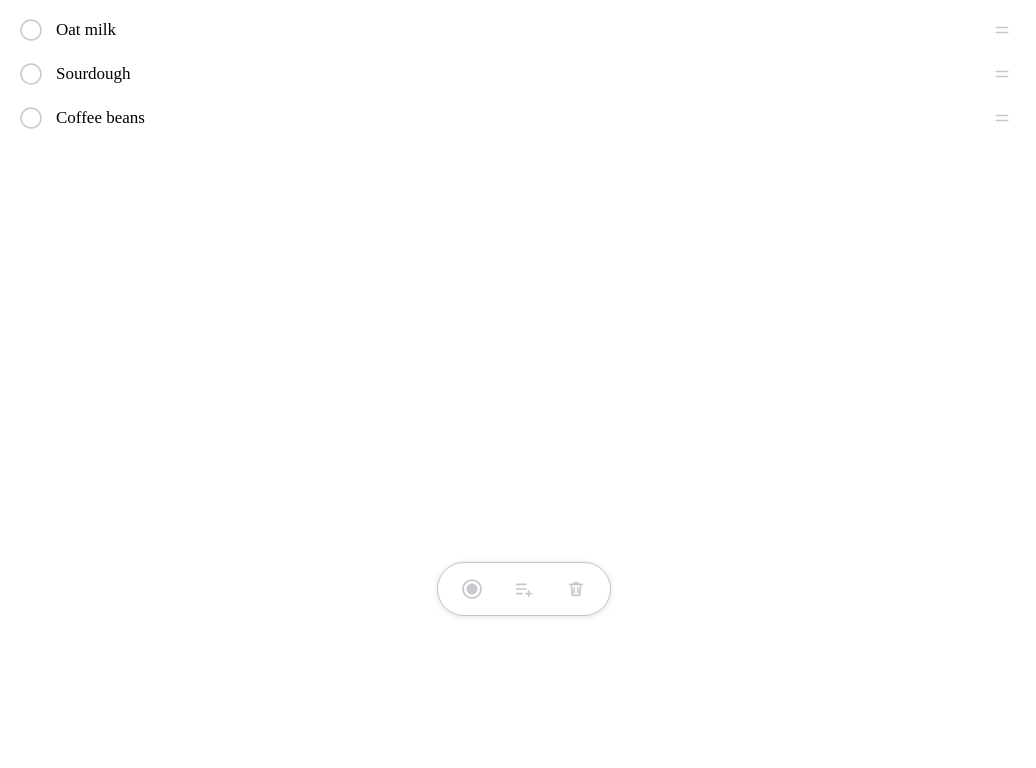
TaskList selection mode (Unit) › disarms a pending delete when the selection changes
The image size is (1036, 768).
Click the button "Oat milk".
click(86, 30)  # box left=56, top=8, right=940, bottom=52
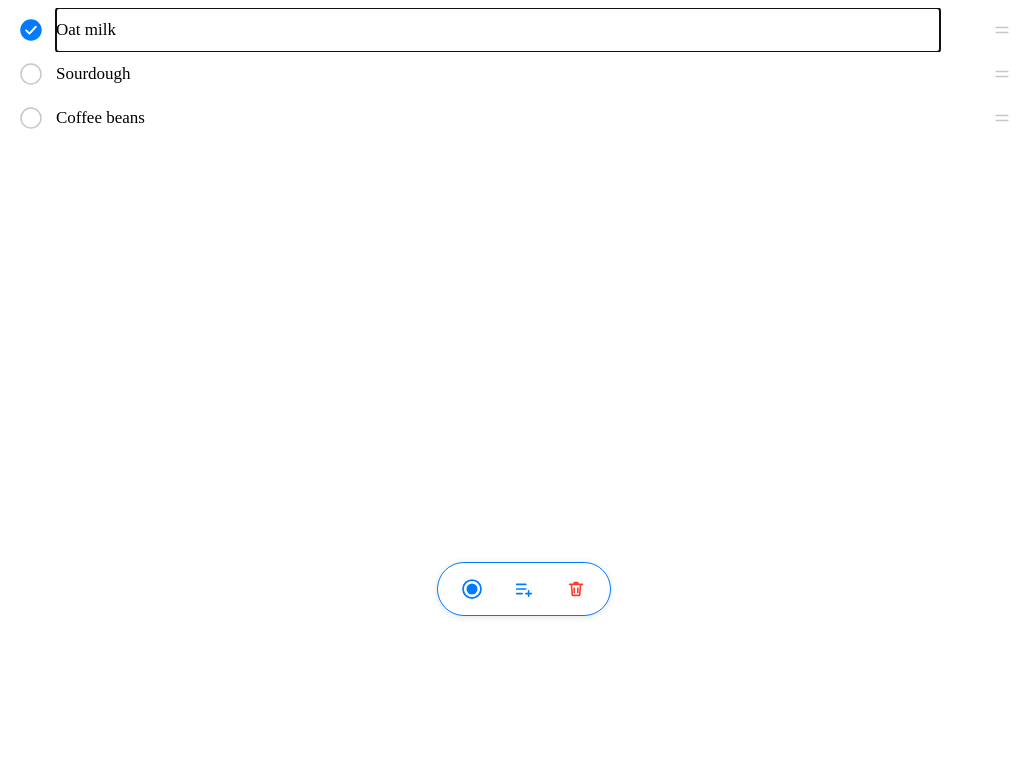
Click the button named "Delete selected tasks".
click(576, 589)  # box left=554, top=567, right=598, bottom=611
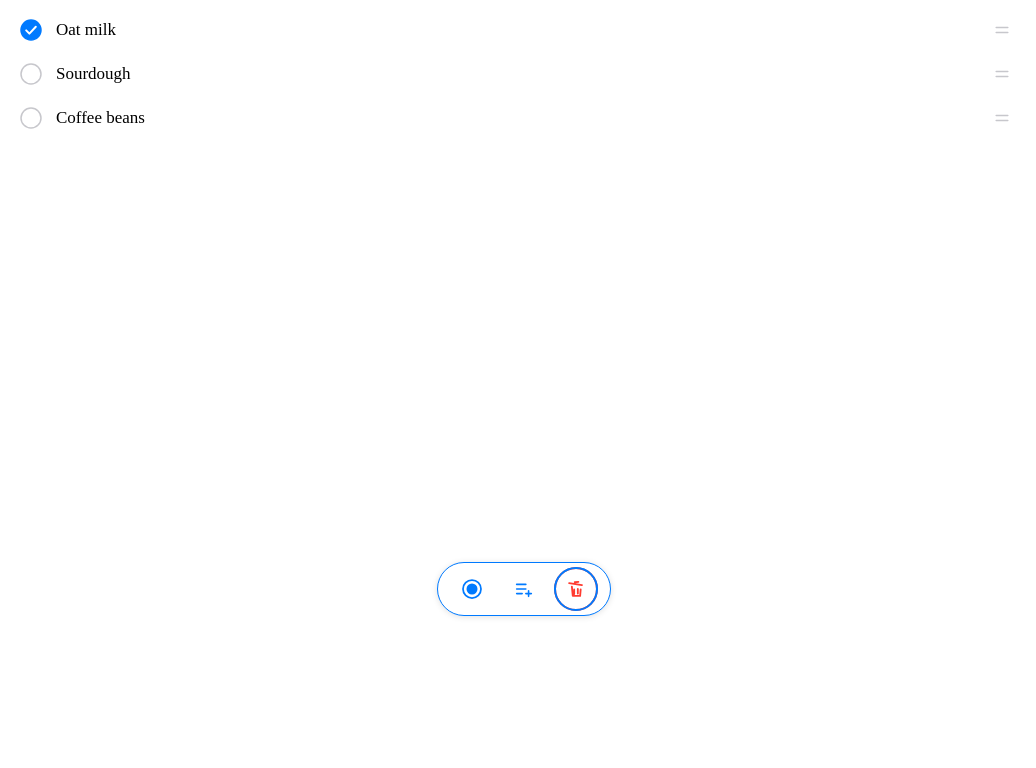
Check: the button named "Confirm deleting 1 task" is shown, box left=554, top=567, right=598, bottom=611
Click the button "Sourdough".
click(93, 74)  # box left=56, top=52, right=940, bottom=96
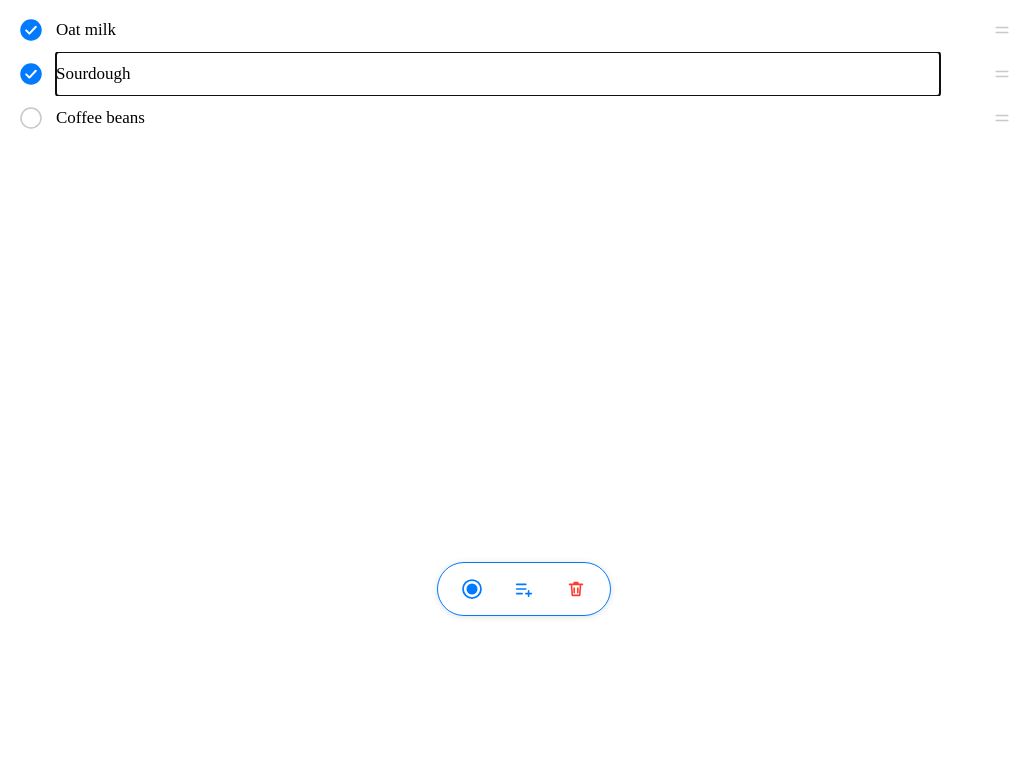
Check: the button named "Delete selected tasks" is shown, box left=554, top=567, right=598, bottom=611
